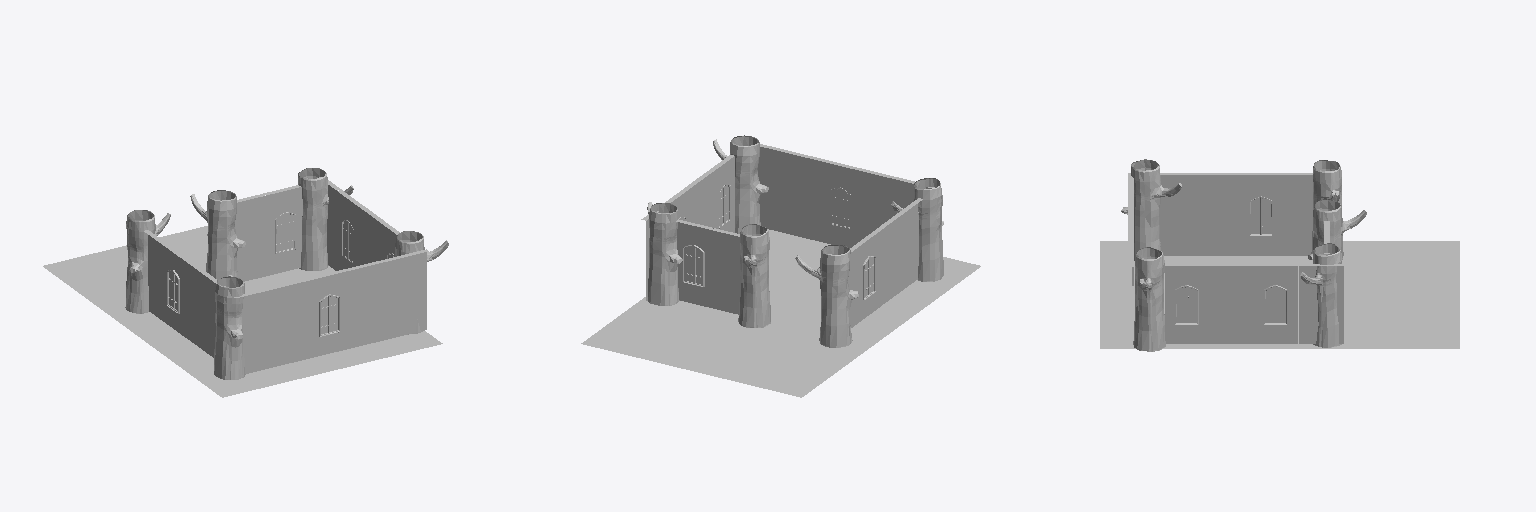
File: SM_Walls_Tree.obj
3 renders of one model, left to right at view 1: azimuth 30°, elevation 25°; view 2: azimuth 150°, elevation 25°; view 3: azimuth 270°, elevation 25°, orthographic.
Bounding box in the file's own units: 1189 × 422 × 1496.